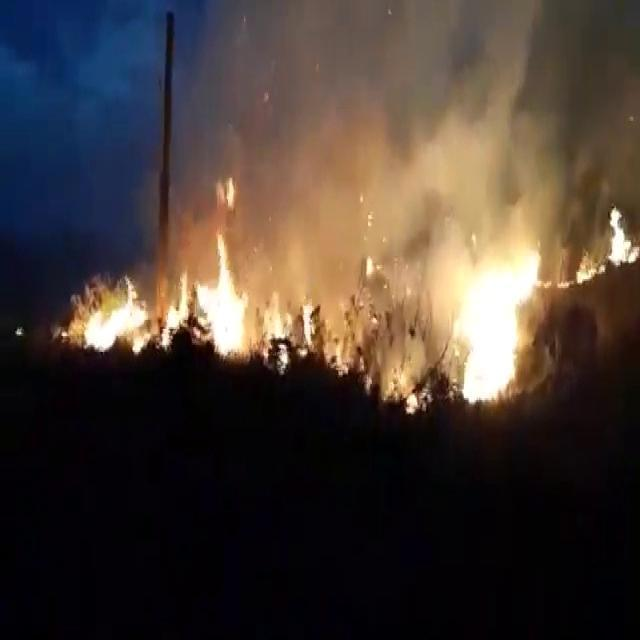Fire: (432, 243, 558, 408), (184, 208, 288, 368), (72, 266, 150, 366), (593, 193, 640, 290)
Smoke: (212, 0, 640, 274)
